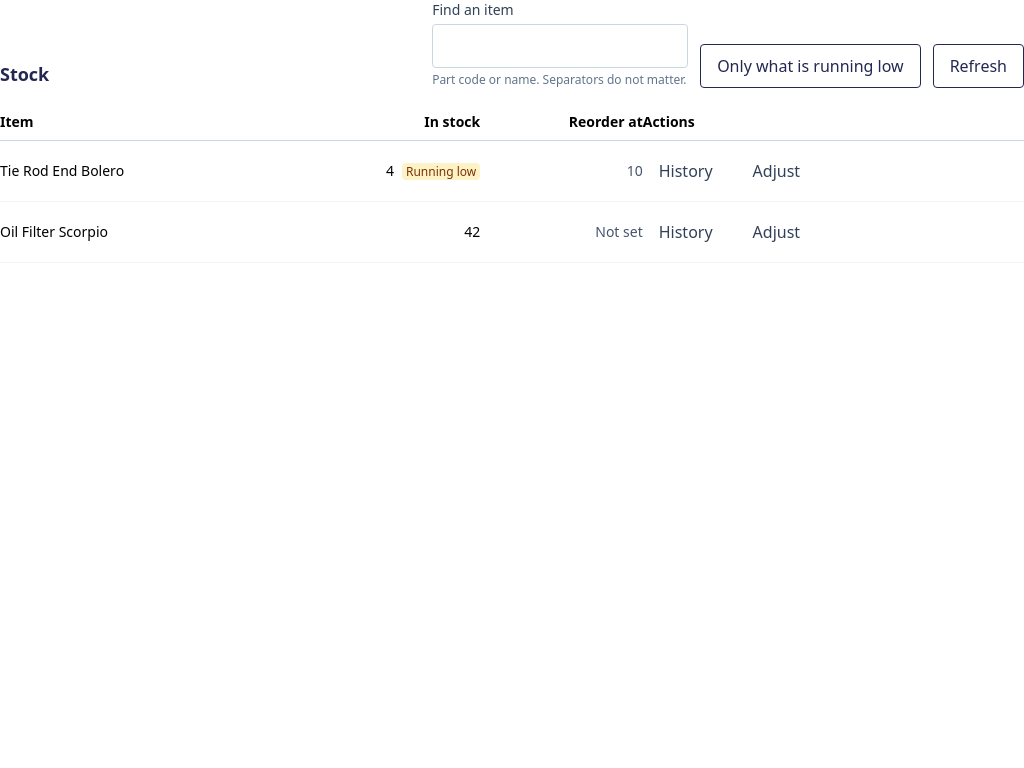
Scenario: FR-INV-002 — the ledger is the only writer › refuses an adjustment that would take stock below zero
Expected: the text "Tie Rod End Bolero" is shown, [0, 141, 273, 202]
Click the button "Adjust" in the row of "Tie Rod End Bolero" at (776, 171), box [737, 149, 816, 193]
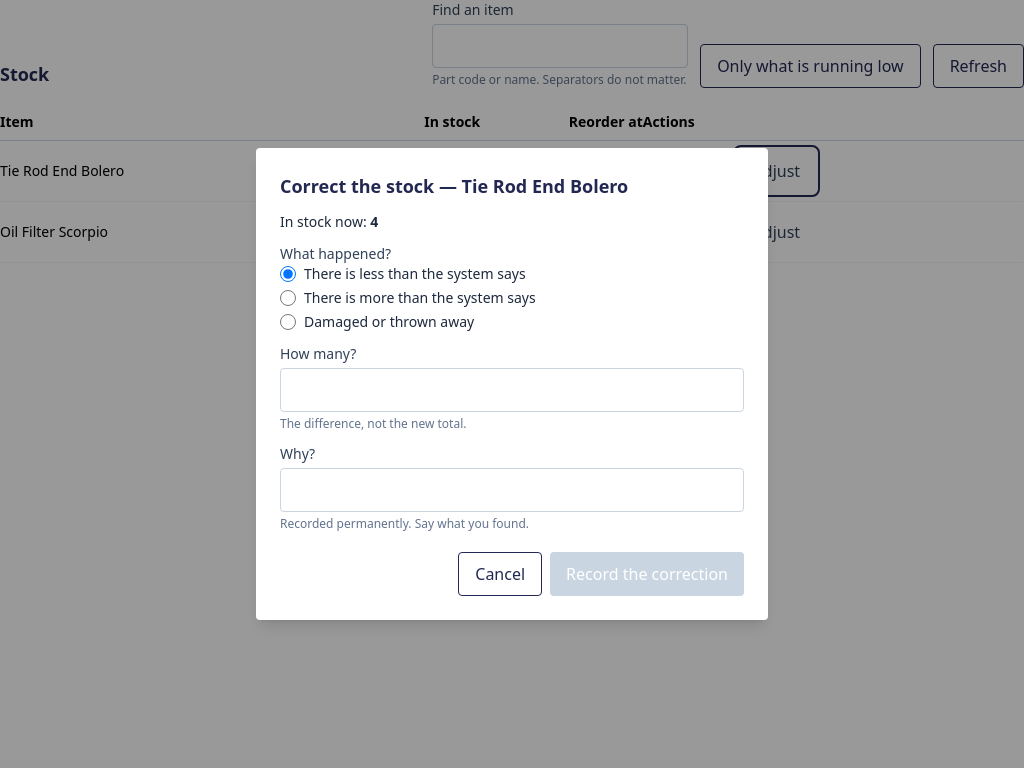
// 4 on hand, decreasing by 9.
Type "9" into the field labelled "How many?" at (512, 390), box [280, 368, 744, 412]
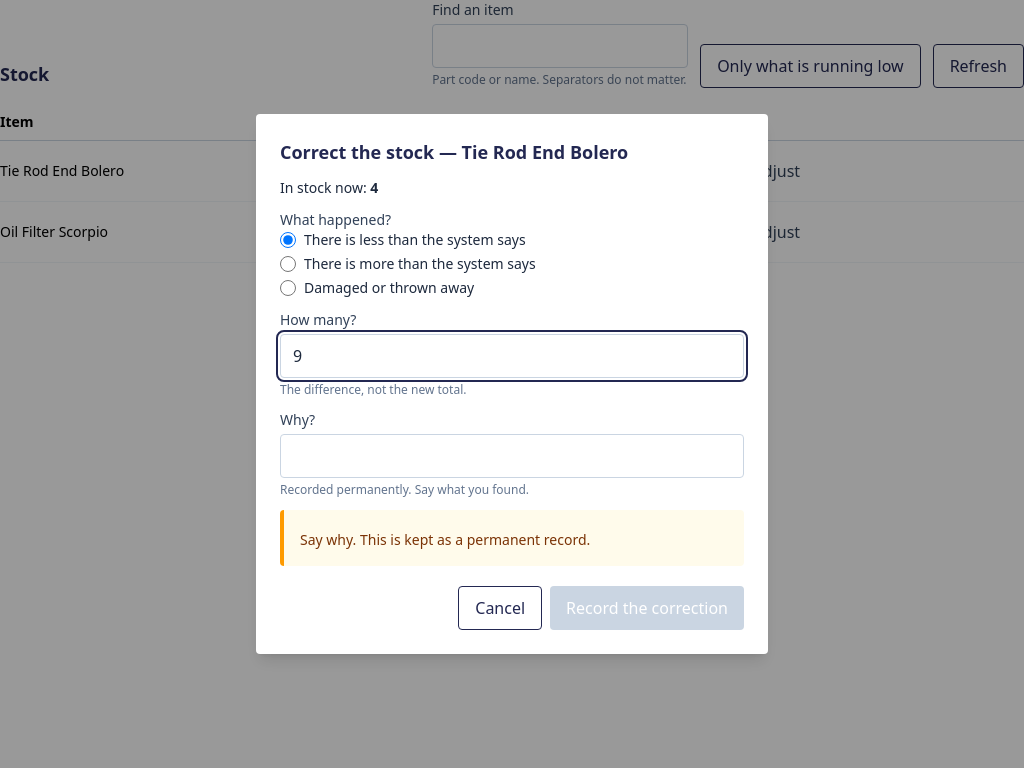
Type "Counted the shelf" into the field labelled "Why?" at (512, 456), box [280, 434, 744, 478]
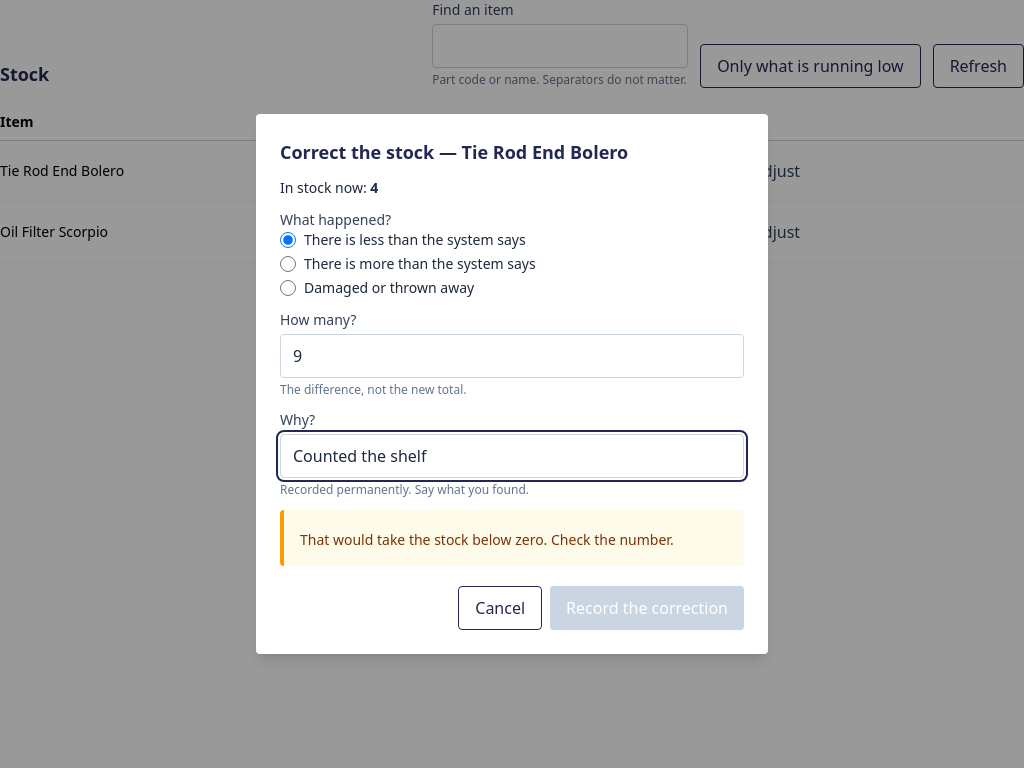
Expected: the button "Record the correction" is disabled, [550, 586, 744, 630]
Expected: the text "That would take the stock below zero. Check the number." is shown, [300, 530, 728, 550]
